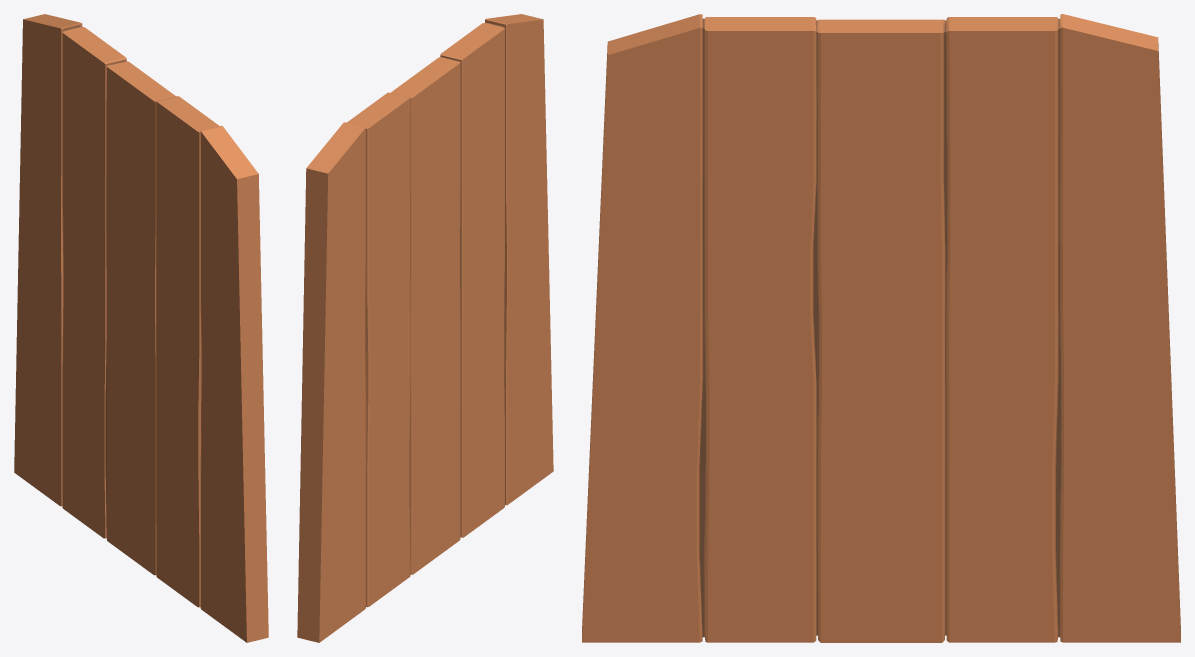
File: Door.fbx
3 views of the same model, side by side, from view 1: azimuth 30°, elevation 25°; view 2: azimuth 150°, elevation 25°; view 3: azimuth 270°, elevation 25° (orthographic). The views are drawn at different scales.
Visible parts, largest first — view 1: Cube.001; view 2: Cube.001; view 3: Cube.001.
Boxes of the visible parts, bbox=[...] form: Cube.001: bbox=[14, 14, 268, 642]; Cube.001: bbox=[297, 14, 553, 642]; Cube.001: bbox=[582, 14, 1180, 642].
Size of the model in its own units: 0.2641 by 4.77 by 5.41.
